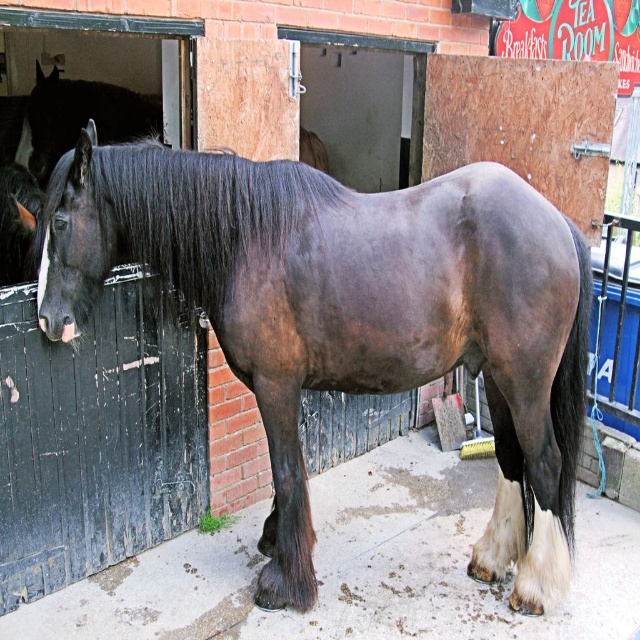Horse: (29, 116, 594, 621)
